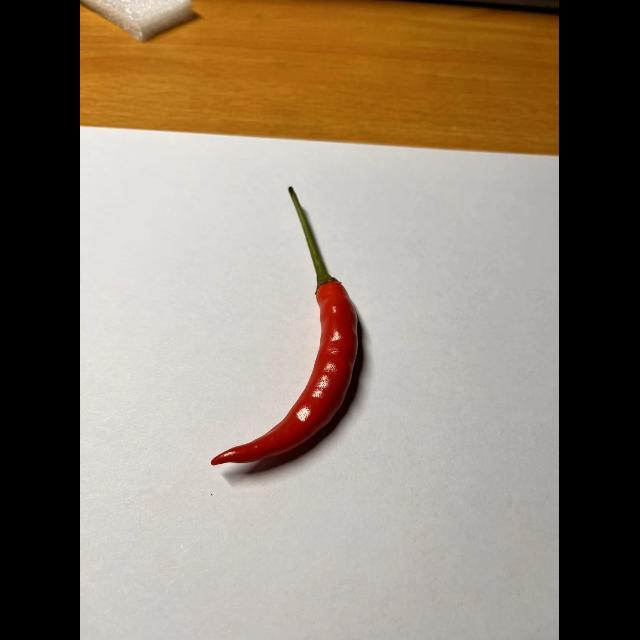chili_pepper: (201, 182, 372, 476)
